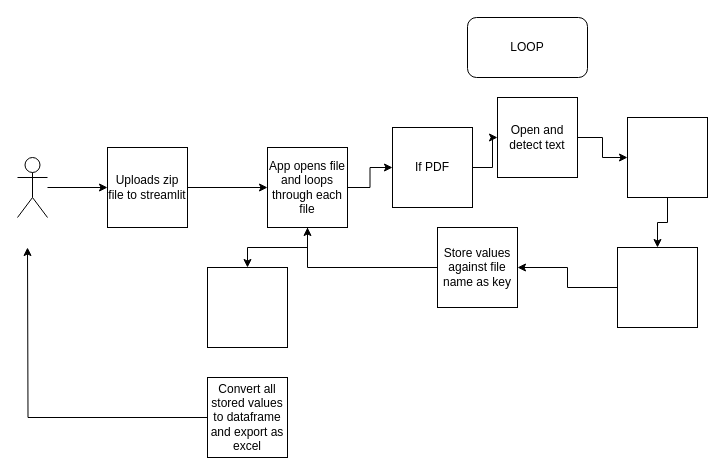
Image size: 725x475. Some labels were removed from this diagram. Here are the shapes that lost their labels. From the top down, the box of each, then its label:
(626, 116, 708, 198): Read values from table
(16, 156, 48, 218): Actor
(206, 266, 288, 348): Once loop is finished, process results
(616, 246, 698, 328): Read values from body of invoice
